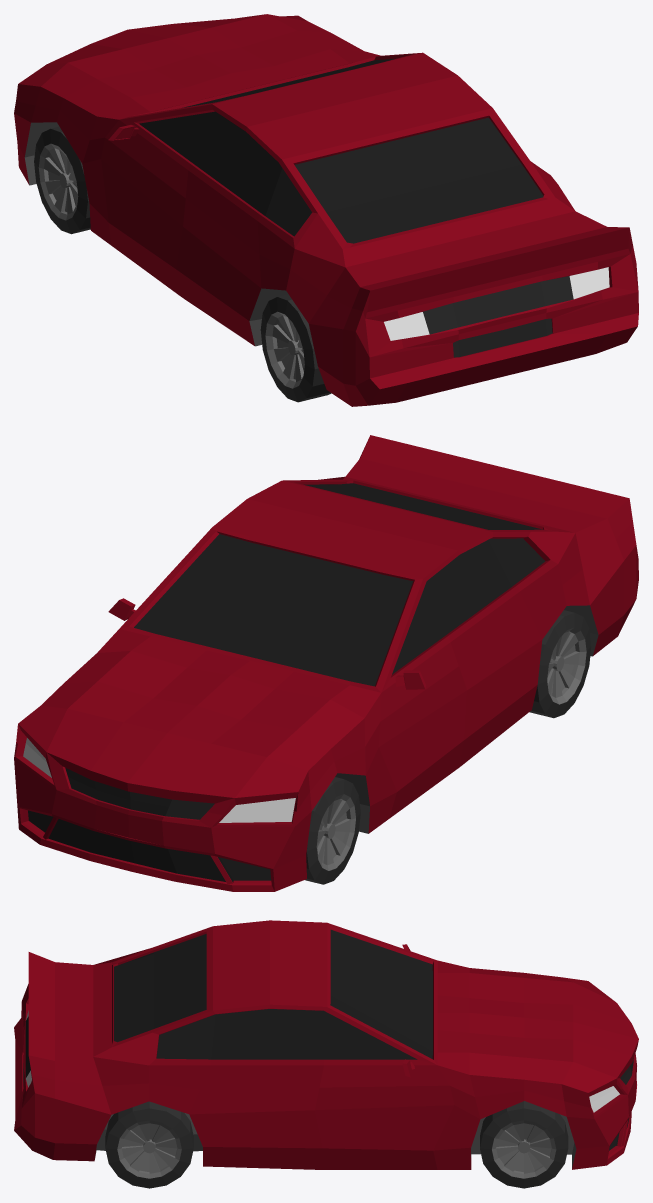
File: LowPolyCarRed.fbx
3 views of the same model, one above another, from view 1: azimuth 30°, elevation 25°; view 2: azimuth 150°, elevation 25°; view 3: azimuth 270°, elevation 25° (orthographic). The views are drawn at different scales.
Visible parts, largest first — view 1: Cube, WheelBackLeft, WheelFrontLeft; view 2: Cube, WheelBackLeft, WheelFrontLeft; view 3: Cube, WheelBackRight, WheelFrontRight.
Boxes of the visible parts, x1,y1,x2,y2 form: Cube: (14, 14, 638, 406); WheelBackLeft: (260, 294, 331, 402); WheelFrontLeft: (34, 126, 90, 234); Cube: (14, 435, 638, 891); WheelBackLeft: (529, 610, 591, 718); WheelFrontLeft: (305, 777, 360, 884); Cube: (14, 920, 638, 1169); WheelBackRight: (105, 1101, 193, 1188); WheelFrontRight: (480, 1101, 568, 1188).
Size of the model in its own units: 245 by 155 by 511.
